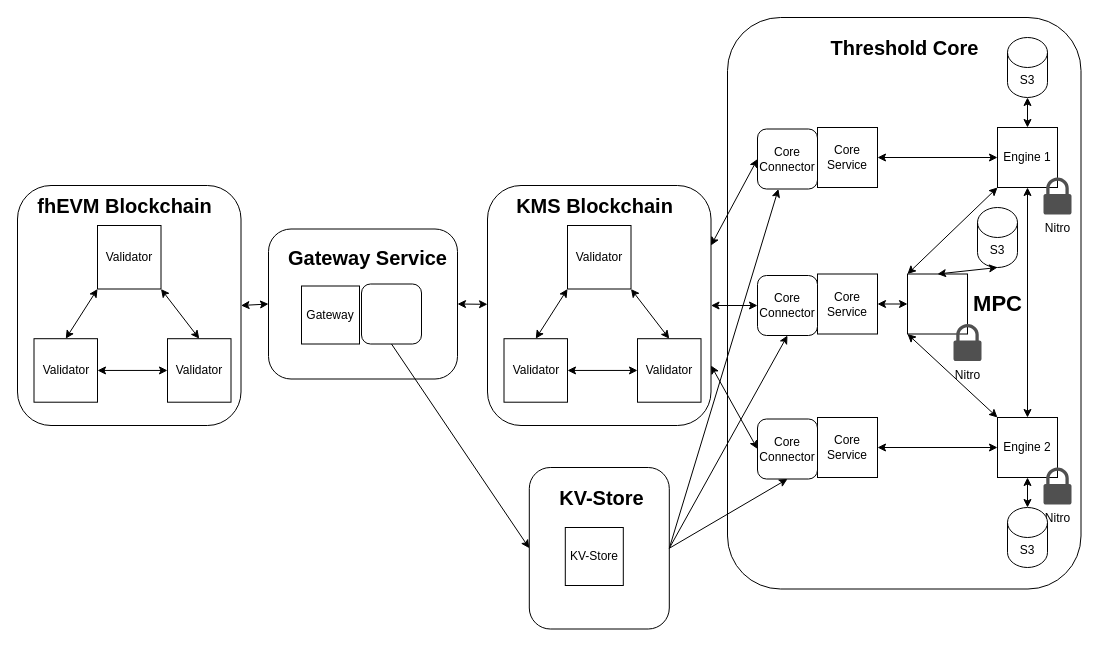
The diagram is 1099 pixels wide and 647 high, and some of its shapes have lost their labels. Each missing label, with the box of its shape:
Engine 3: (906, 273, 968, 334)
Gateway Connector: (360, 283, 422, 344)
